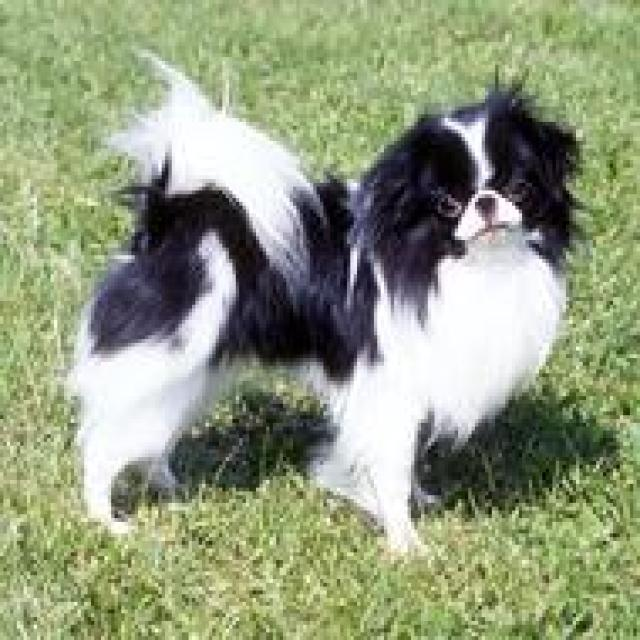husky: (54, 46, 596, 571)
